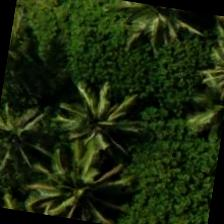Kelapa_Sawit: (52, 76, 155, 180), (29, 144, 130, 223), (0, 89, 60, 188), (109, 0, 206, 61), (170, 56, 223, 154)
